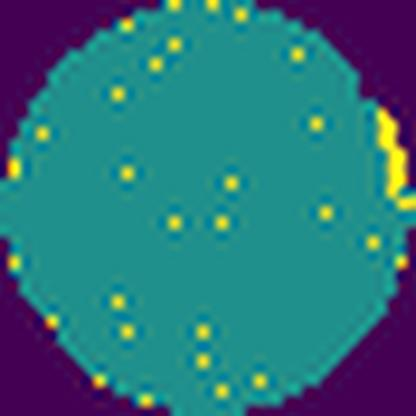Edge-Loc: (371, 101, 416, 210)
